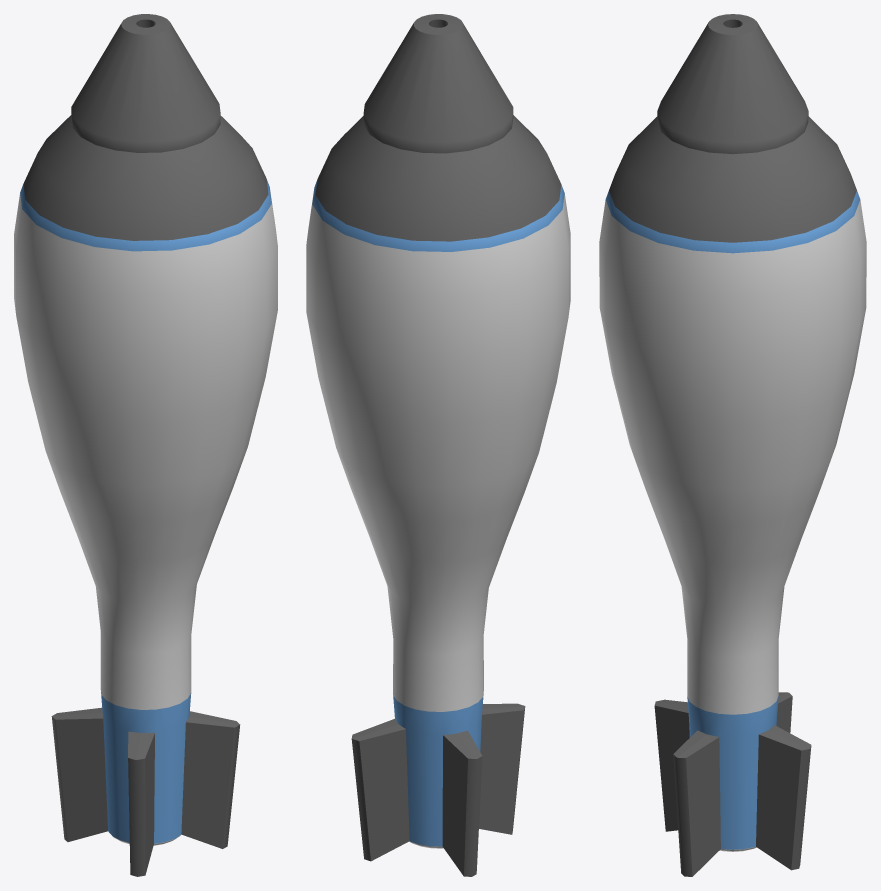
Rendered from Mortar Shell.fbx.
3 renders of one model, left to right at view 1: azimuth 30°, elevation 25°; view 2: azimuth 150°, elevation 25°; view 3: azimuth 270°, elevation 25°, orthographic.
Visible parts, largest first — view 1: Mortar_Shell; view 2: Mortar_Shell; view 3: Mortar_Shell.
Part boxes in pixels (bbox=[...]): Mortar_Shell: bbox=[14, 14, 277, 876]; Mortar_Shell: bbox=[306, 14, 570, 876]; Mortar_Shell: bbox=[599, 14, 866, 876].
Size of the model in its own units: 14.1 by 48.06 by 14.1.
